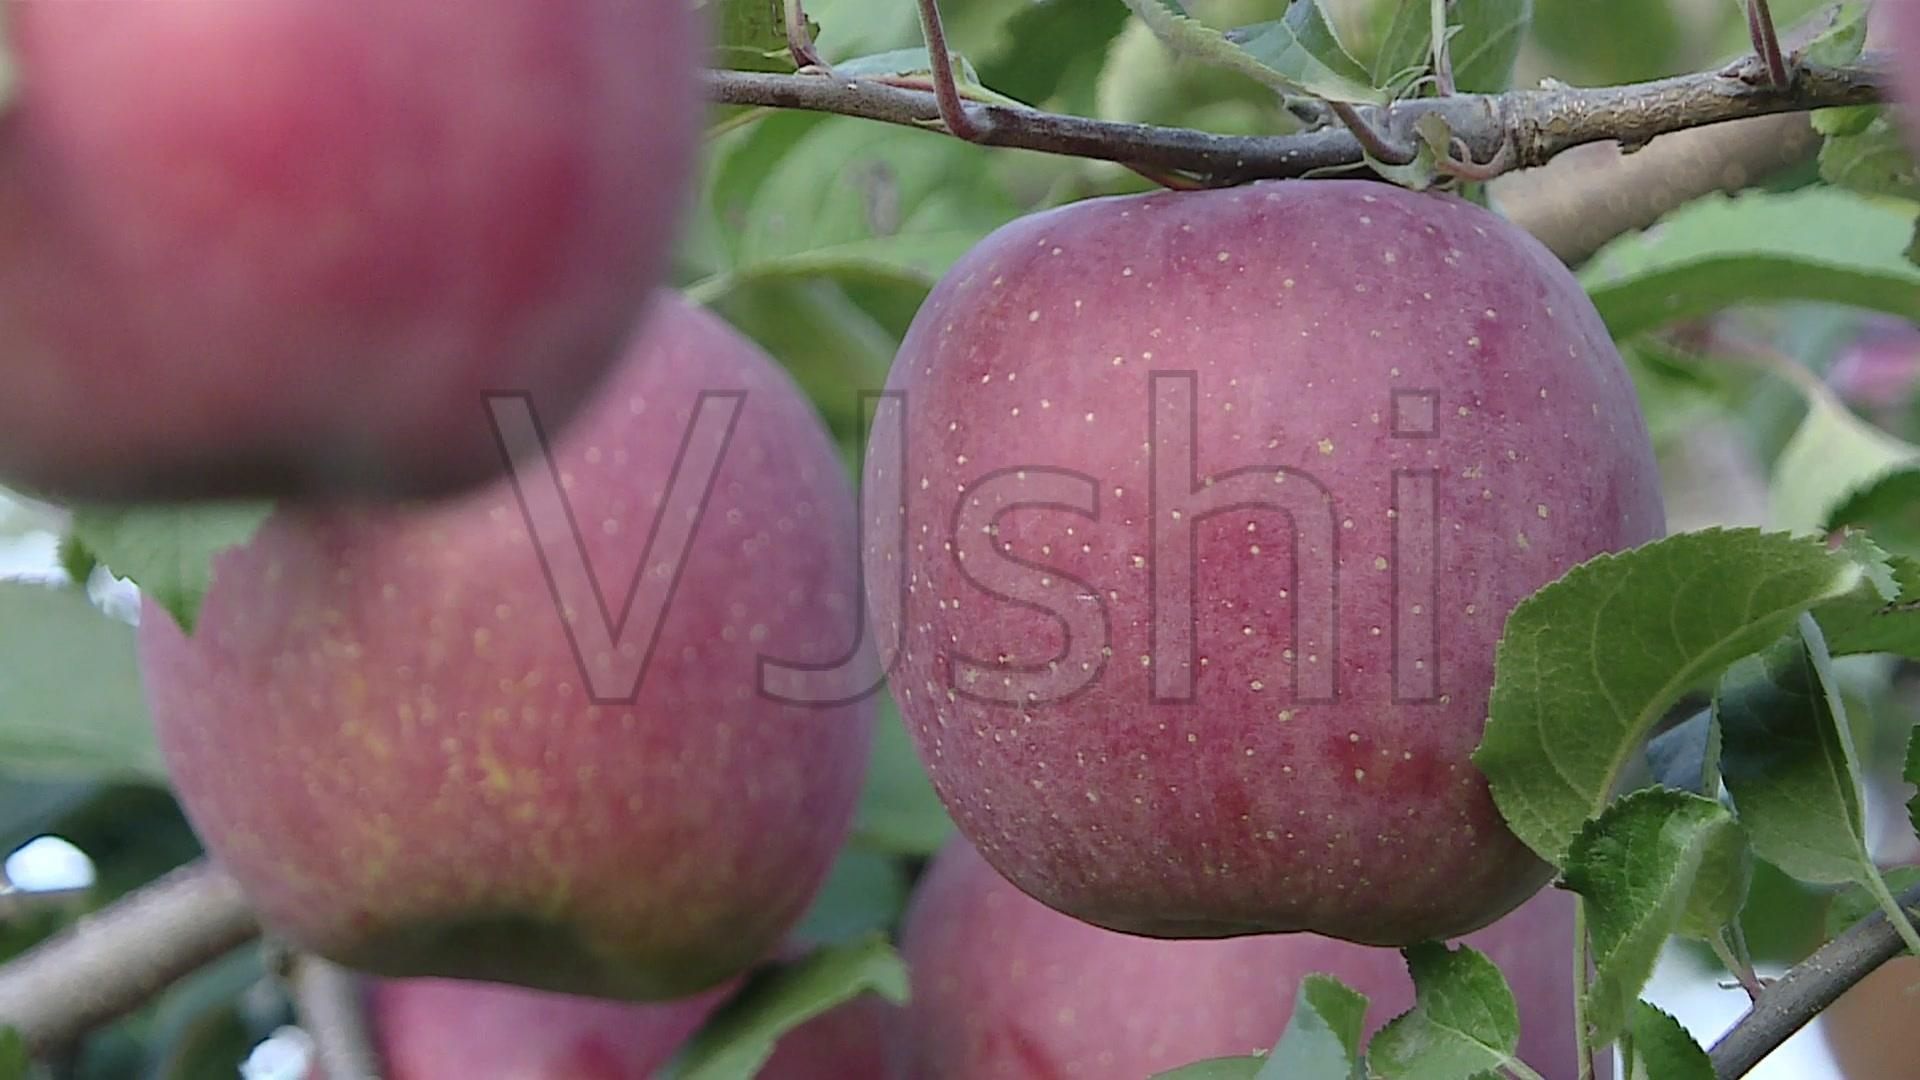apple: (848, 190, 1650, 930), (131, 301, 874, 1005)
